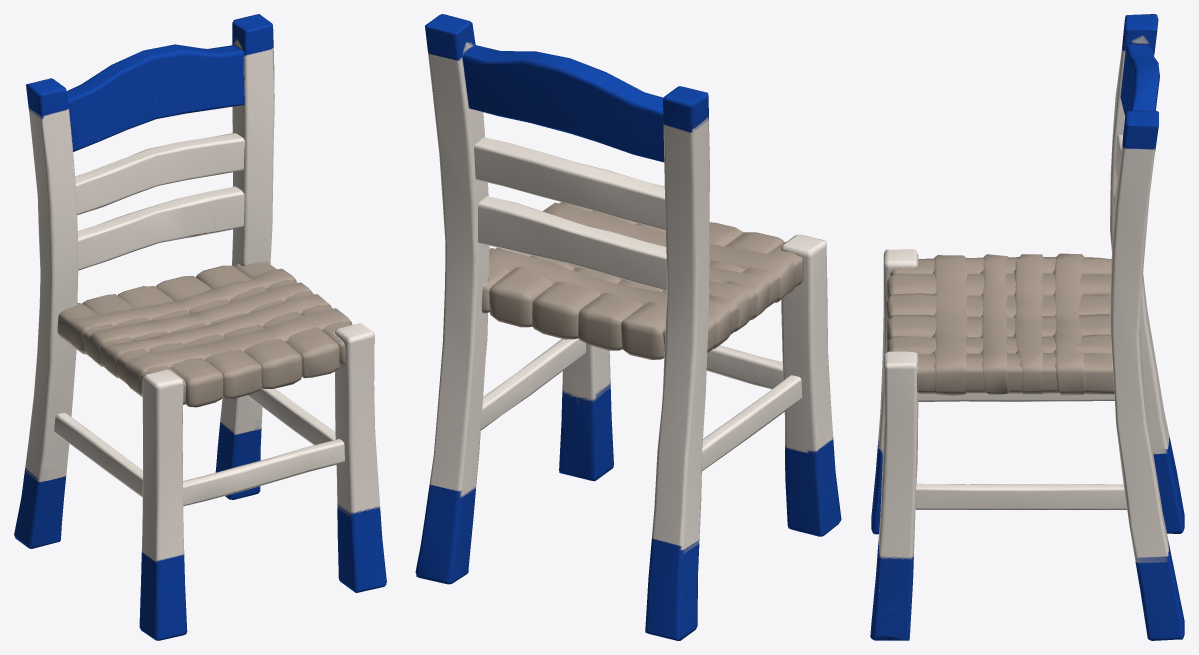
The model's file is furniture.glb.
3 views of the same model, side by side, from view 1: azimuth 30°, elevation 25°; view 2: azimuth 150°, elevation 25°; view 3: azimuth 270°, elevation 25° (orthographic). The views are drawn at different scales.
Size of the model in its own units: 0.5195 by 1 by 0.5508.
1 material, 1 textured.
